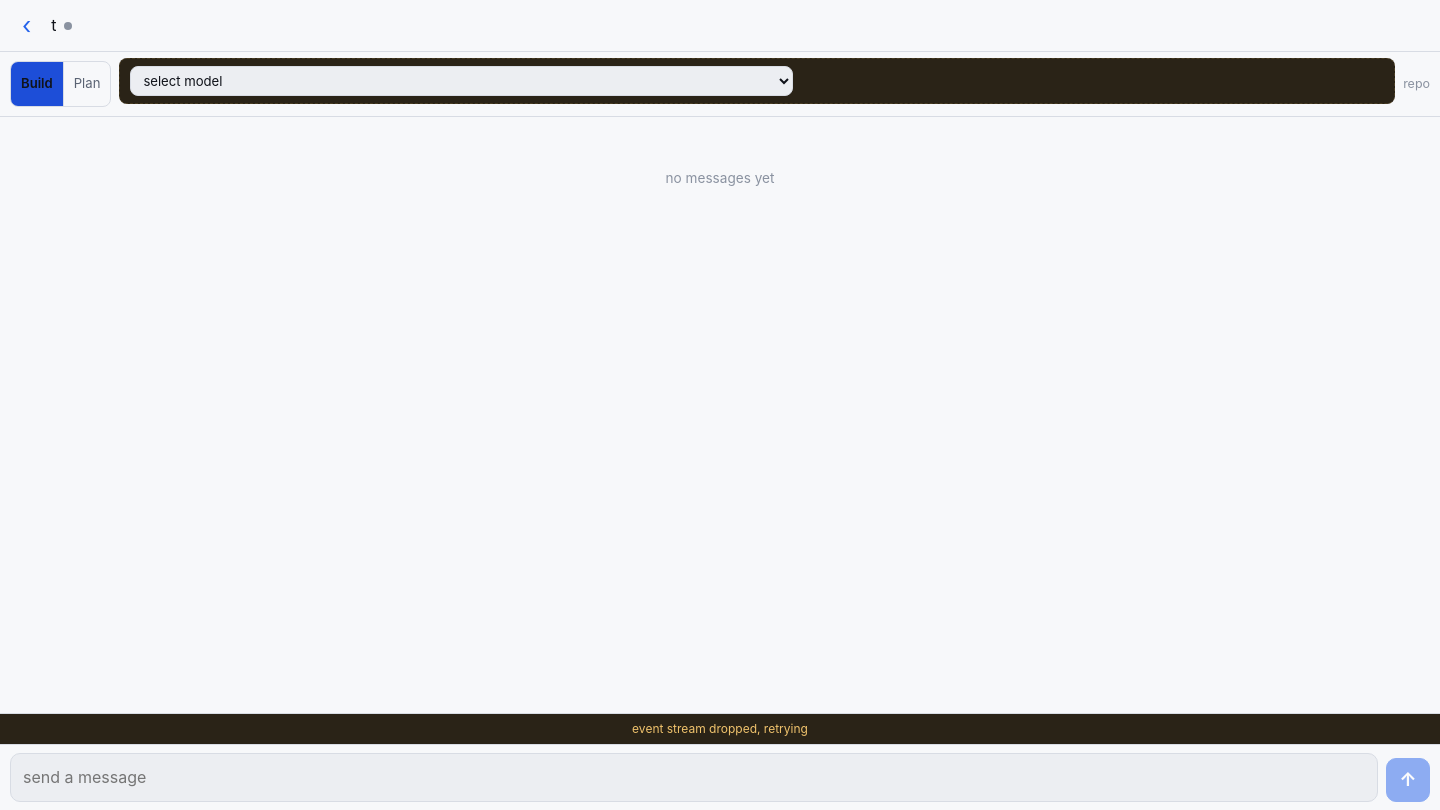
Test case: SessionView live event rendering › reverts the mode toggle when the agent request fails
Click the button "Plan" at (87, 84), box x1=63 y1=62 x2=110 y2=106
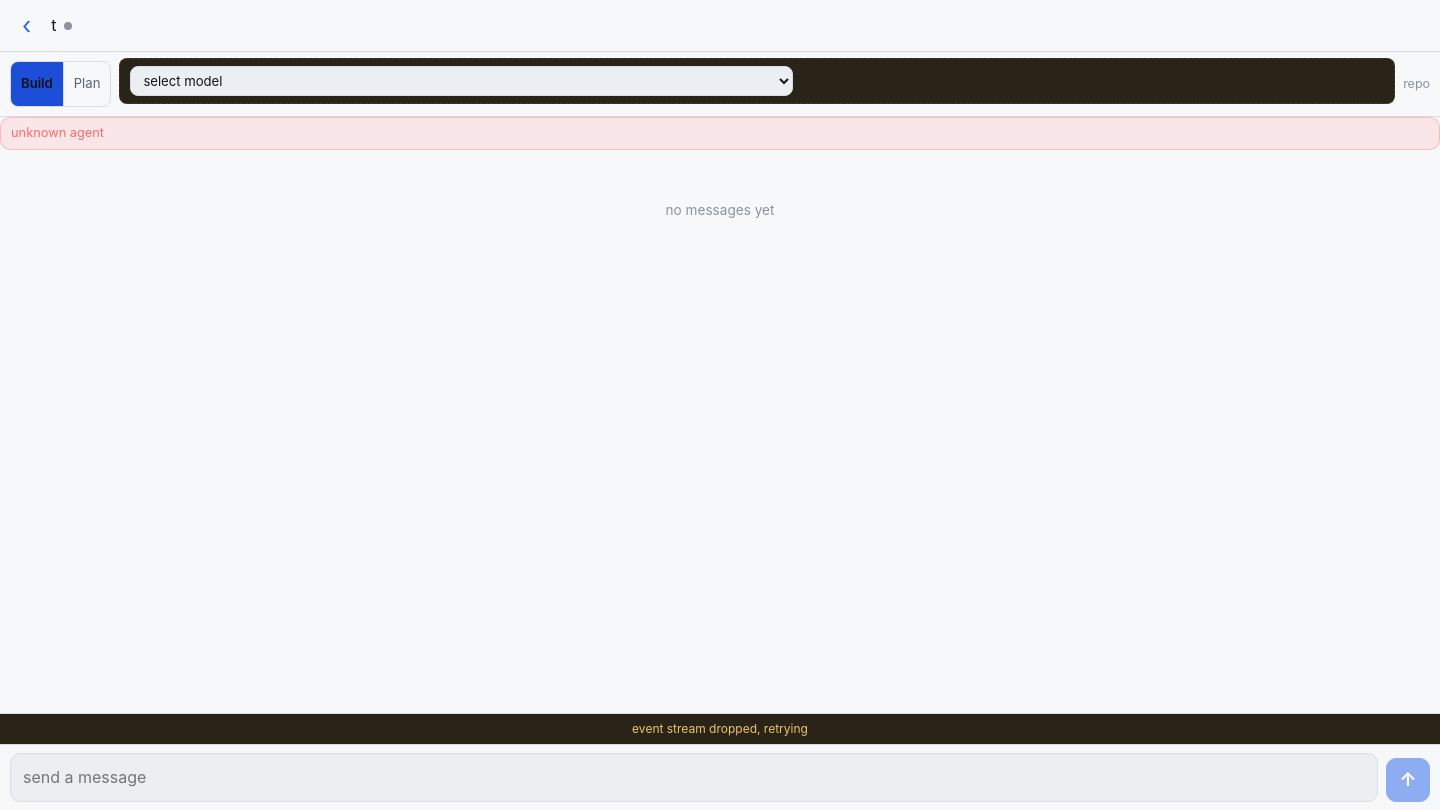
Now the message "unknown agent" is shown, box x1=0 y1=117 x2=1439 y2=150
